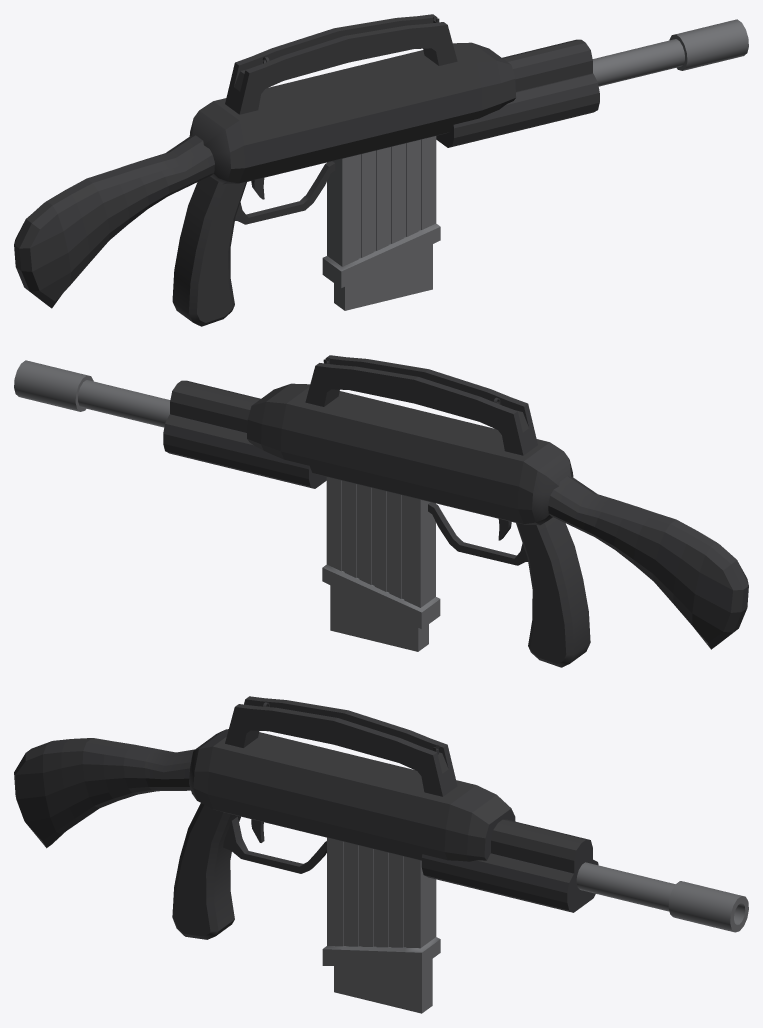
File: Assault Rifle Model.fbx
3 views of the same model, one above another, from view 1: azimuth 30°, elevation 25°; view 2: azimuth 150°, elevation 25°; view 3: azimuth 330°, elevation 25° (orthographic).
Parts seen in each view (by area): view 1: Assault_Rifle; view 2: Assault_Rifle; view 3: Assault_Rifle.
Part boxes in pixels (<box>): Assault_Rifle: <box>14,14,748,326</box>; Assault_Rifle: <box>14,355,748,667</box>; Assault_Rifle: <box>14,696,748,1013</box>.
Bounding box in the file's own units: 93.36 × 33.68 × 8.41.
